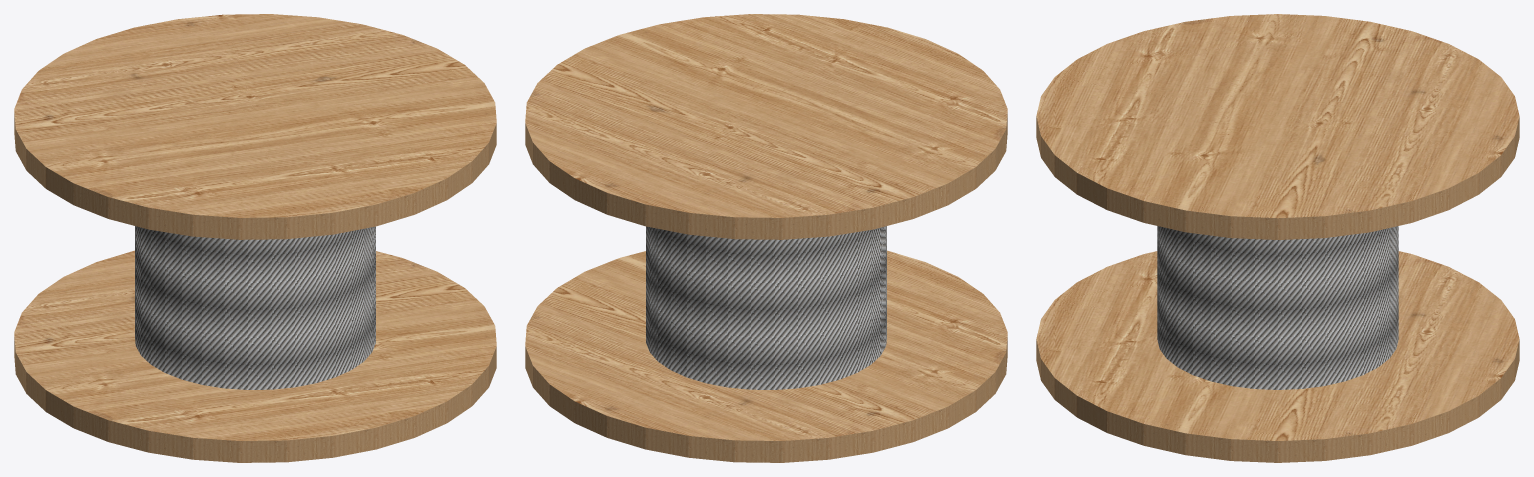
Rendered from Bobina.glb.
3 renders of one model, left to right at view 1: azimuth 30°, elevation 25°; view 2: azimuth 150°, elevation 25°; view 3: azimuth 270°, elevation 25°, orthographic.
Parts seen in each view (by area): view 1: Cylinder.001, Cylinder.002, Cylinder.003; view 2: Cylinder.001, Cylinder.002, Cylinder.003; view 3: Cylinder.001, Cylinder.002, Cylinder.003.
Boxes of the visible parts, <box> form: Cylinder.001: <box>14,14,496,239</box>; Cylinder.002: <box>14,250,496,462</box>; Cylinder.003: <box>135,226,375,389</box>; Cylinder.001: <box>525,14,1007,239</box>; Cylinder.002: <box>525,250,1007,462</box>; Cylinder.003: <box>646,226,886,389</box>; Cylinder.001: <box>1036,14,1519,239</box>; Cylinder.002: <box>1036,251,1519,462</box>; Cylinder.003: <box>1157,226,1398,389</box>.
Bounding box in the file's own units: 2 × 1.12 × 2.
Materials: 2 (2 with a texture image).
